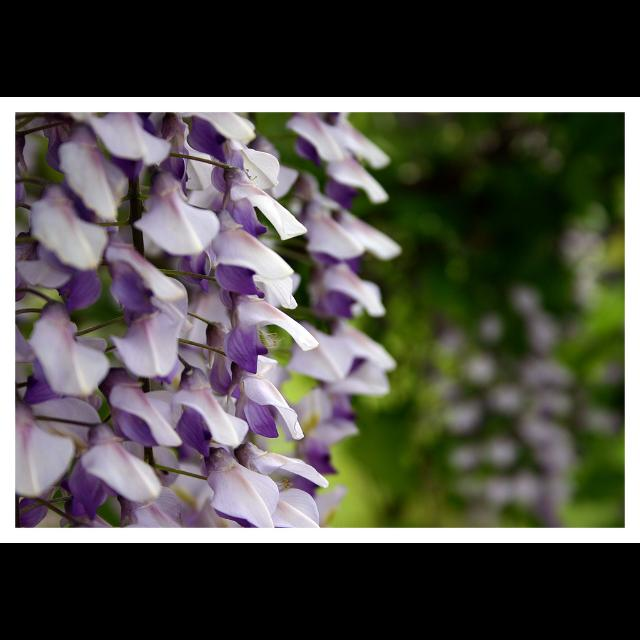Flower: (13, 109, 403, 532), (188, 455, 300, 529)
